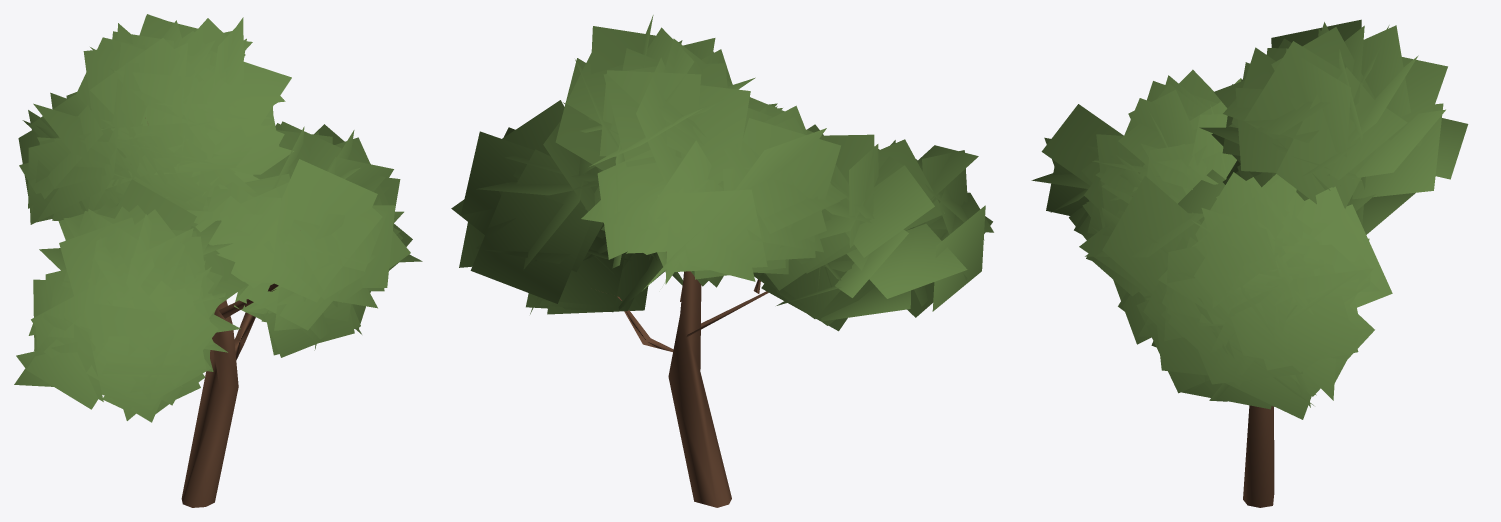
Rendered from quaternius-tree-v1.glb.
3 renders of one model, left to right at view 1: azimuth 30°, elevation 25°; view 2: azimuth 150°, elevation 25°; view 3: azimuth 270°, elevation 25°, orthographic. The views are drawn at different scales.
Parts seen in each view (by area): view 1: NormalTree_5; view 2: NormalTree_5; view 3: NormalTree_5.
Part boxes in pixels (x1,y1,x2,y2): NormalTree_5: [14, 14, 422, 507]; NormalTree_5: [451, 15, 993, 507]; NormalTree_5: [1031, 19, 1468, 507].
Bounding box in the file's own units: 310 × 298 × 257.
